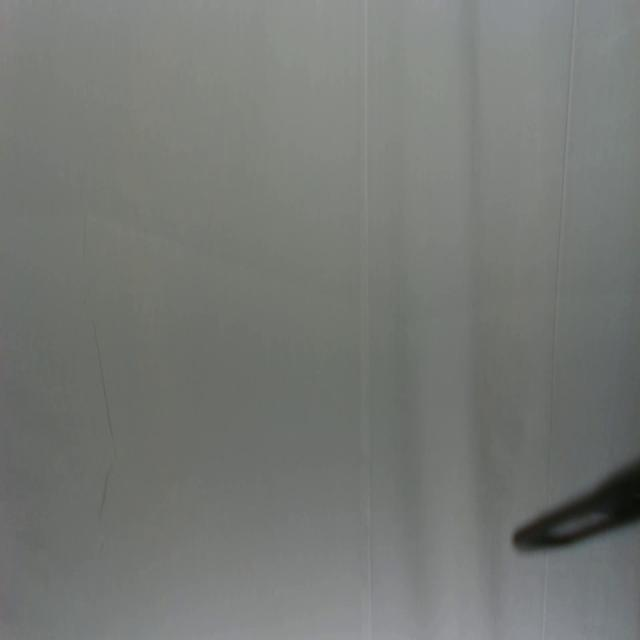crease: (545, 0, 578, 496), (362, 0, 373, 639), (92, 318, 116, 444), (542, 552, 550, 639)
